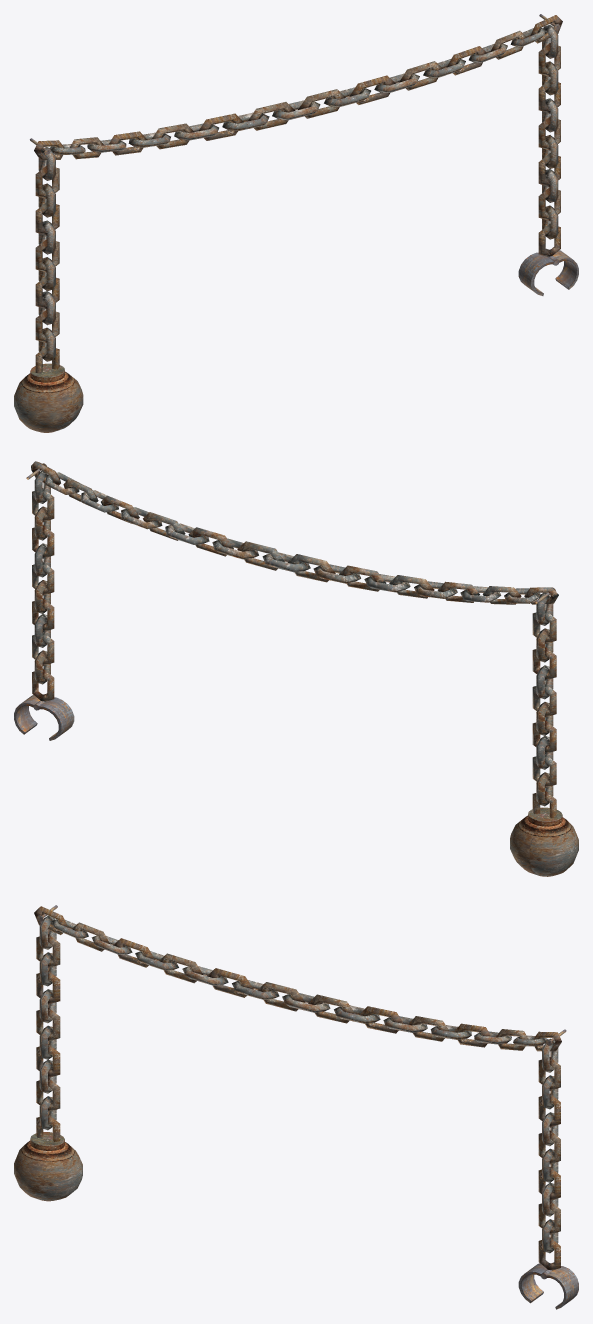
The model's file is chainBall.FBX.
3 renders of one model, top to bottom at view 1: azimuth 30°, elevation 25°; view 2: azimuth 150°, elevation 25°; view 3: azimuth 330°, elevation 25°, orthographic.
Parts seen in each view (by area): view 1: Sphere01; view 2: Sphere01; view 3: Sphere01.
Boxes of the visible parts, box(x1,y1,x2,y2) form: Sphere01: box(14, 14, 578, 432); Sphere01: box(14, 461, 578, 876); Sphere01: box(14, 905, 578, 1309).
Bounding box in the file's own units: 85.15 × 42.28 × 8.47.
1 material, 1 textured.
